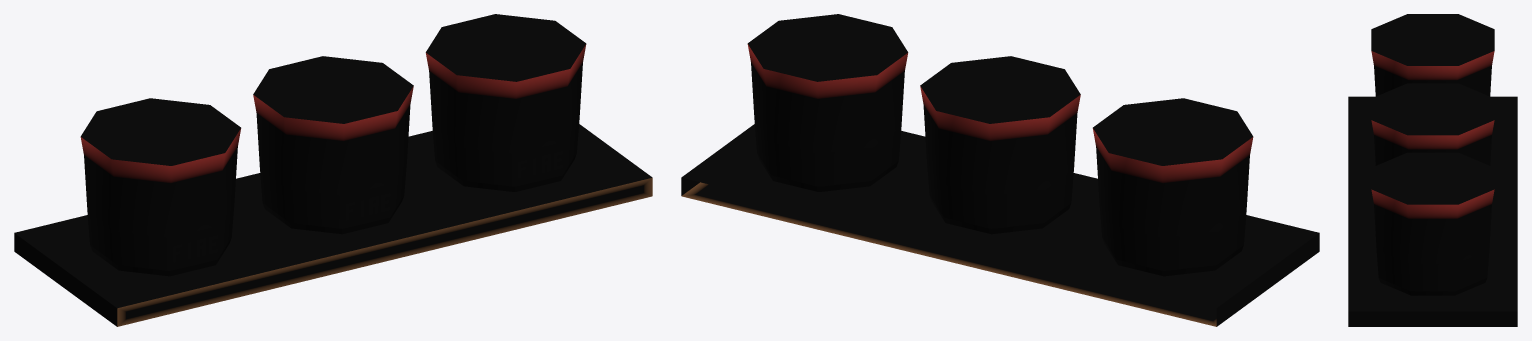
The model's file is fire_buckets.glb.
3 renders of one model, left to right at view 1: azimuth 30°, elevation 25°; view 2: azimuth 150°, elevation 25°; view 3: azimuth 270°, elevation 25°, orthographic. The views are drawn at different scales.
Visible parts, largest first — view 1: frame, fire_bucket, dark, white; view 2: frame, fire_bucket, dark, white; view 3: frame, dark, fire_bucket, white.
Boxes of the visible parts, bbox=[...] form: frame: bbox=[14, 124, 652, 326]; fire_bucket: bbox=[80, 44, 586, 276]; dark: bbox=[80, 14, 586, 262]; white: bbox=[87, 119, 579, 270]; frame: bbox=[681, 124, 1319, 326]; fire_bucket: bbox=[747, 44, 1253, 276]; dark: bbox=[747, 14, 1253, 165]; white: bbox=[754, 119, 1246, 270]; frame: bbox=[1348, 96, 1517, 326]; dark: bbox=[1371, 14, 1494, 204]; fire_bucket: bbox=[1371, 51, 1494, 295]; white: bbox=[1376, 250, 1489, 291].
Size of the model in its own units: 0.9 by 0.275 by 0.3.
